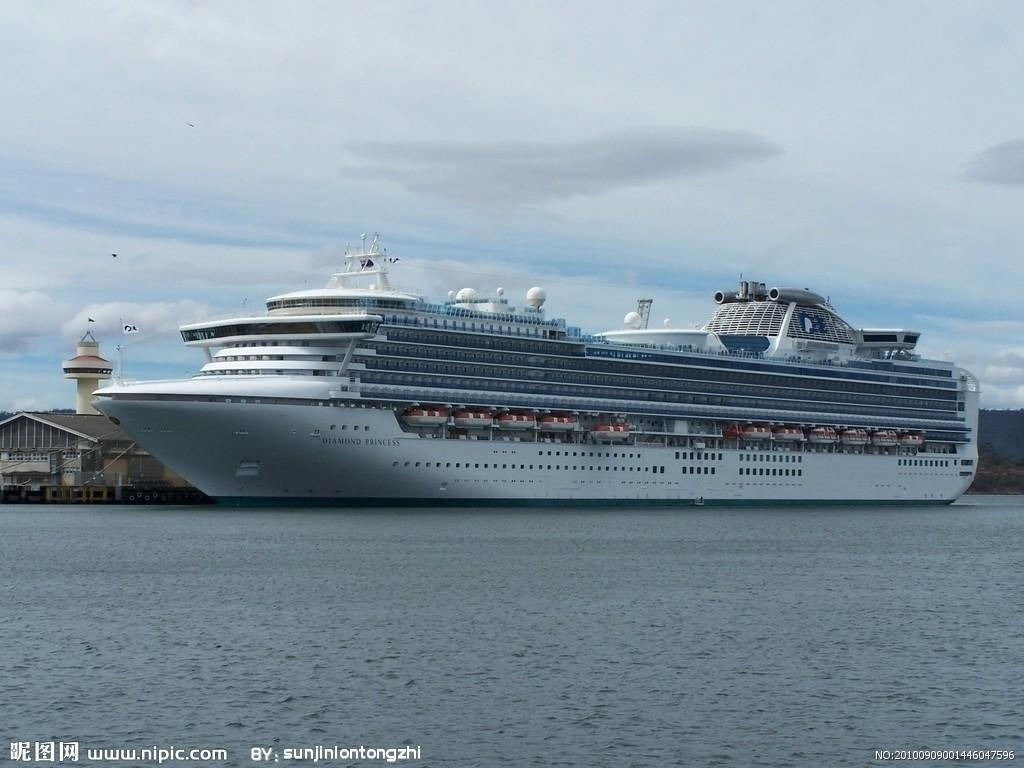youlun: (83, 244, 984, 502)
